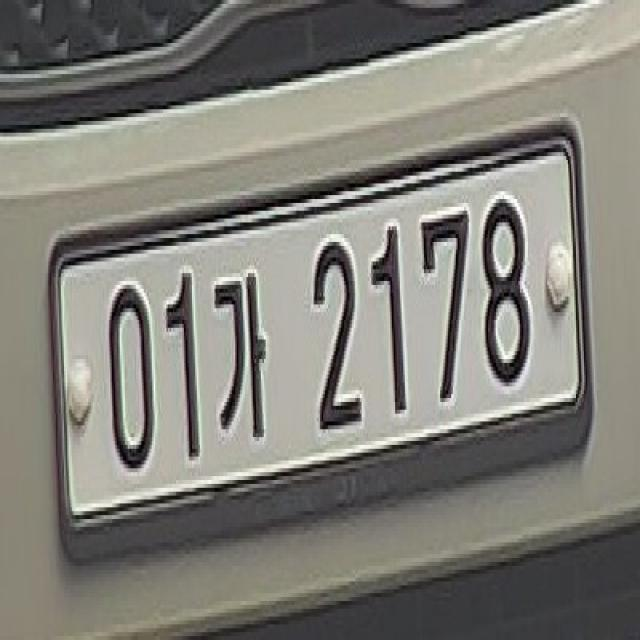0: (103, 272, 157, 488)
1: (159, 248, 206, 482), (371, 212, 411, 427)
2: (302, 231, 366, 441)
7: (419, 198, 472, 418)
8: (478, 184, 539, 394)
ga: (210, 253, 272, 464)
license_plate: (33, 95, 619, 607)
